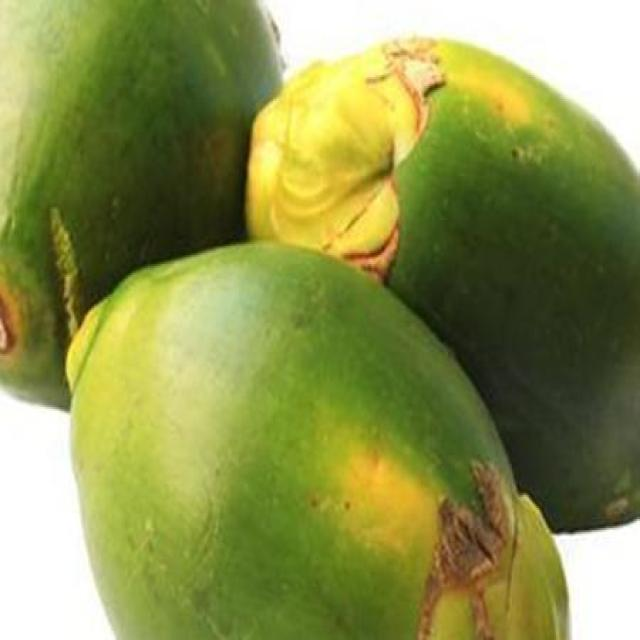good: (67, 242, 570, 638), (247, 37, 639, 534)
